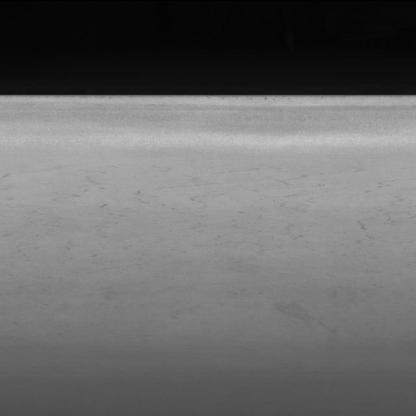silk_spot: (11, 166, 352, 255)
